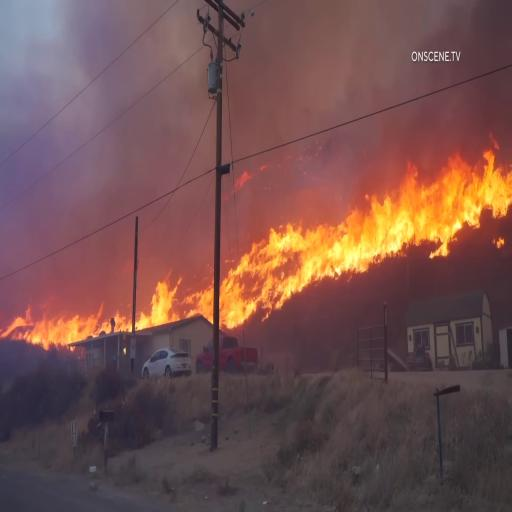fire: (228, 127, 511, 319)
